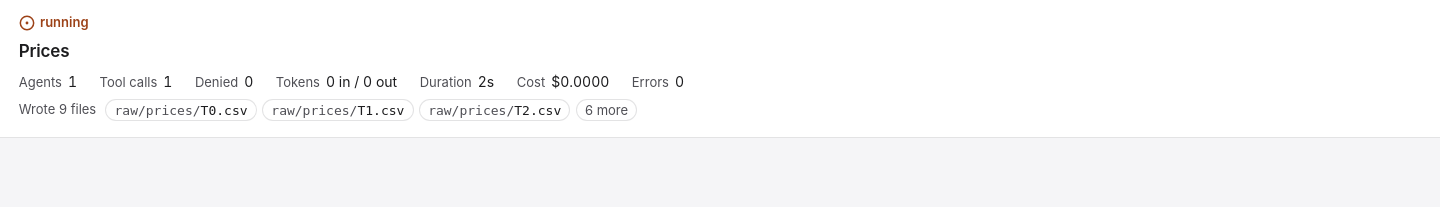
Scenario: RunSummary › folds a long list of written files behind a count
Expected: the number of buttons "raw/prices/ T0.csv" is 3, [105,99,257,121]; [262,99,414,121]; [419,99,570,121]
Step 1. Click the button "6 more" → (607, 110), box [576,98,637,121]
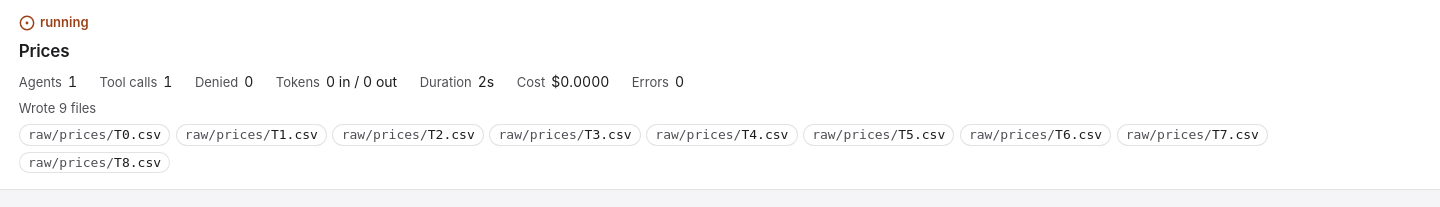
Now the number of buttons "raw/prices/ T0.csv" is 9
